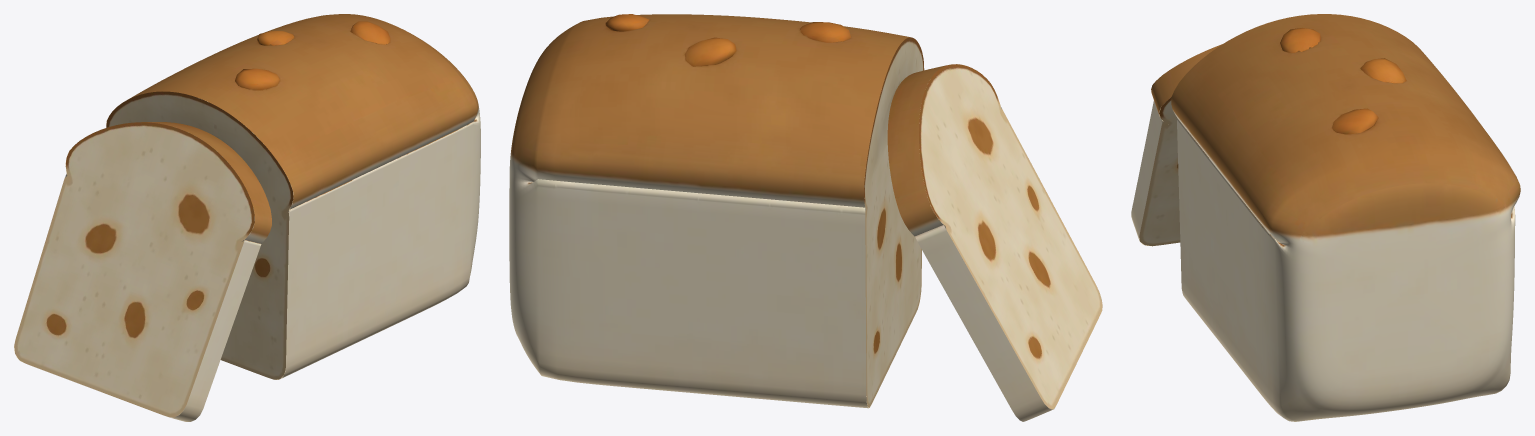
Rendered from loaf--apricot-dried.glb.
3 renders of one model, left to right at view 1: azimuth 30°, elevation 25°; view 2: azimuth 150°, elevation 25°; view 3: azimuth 270°, elevation 25°, orthographic. The views are drawn at different scales.
Visible parts, largest first — view 1: loaf_apricot-dried; view 2: loaf_apricot-dried; view 3: loaf_apricot-dried.
Part boxes in pixels (<box>): loaf_apricot-dried: <box>14,14,480,421</box>; loaf_apricot-dried: <box>509,14,1102,421</box>; loaf_apricot-dried: <box>1131,14,1520,421</box>.
Size of the model in its own units: 1.26 by 0.7337 by 0.9031.
1 material, 1 textured.
